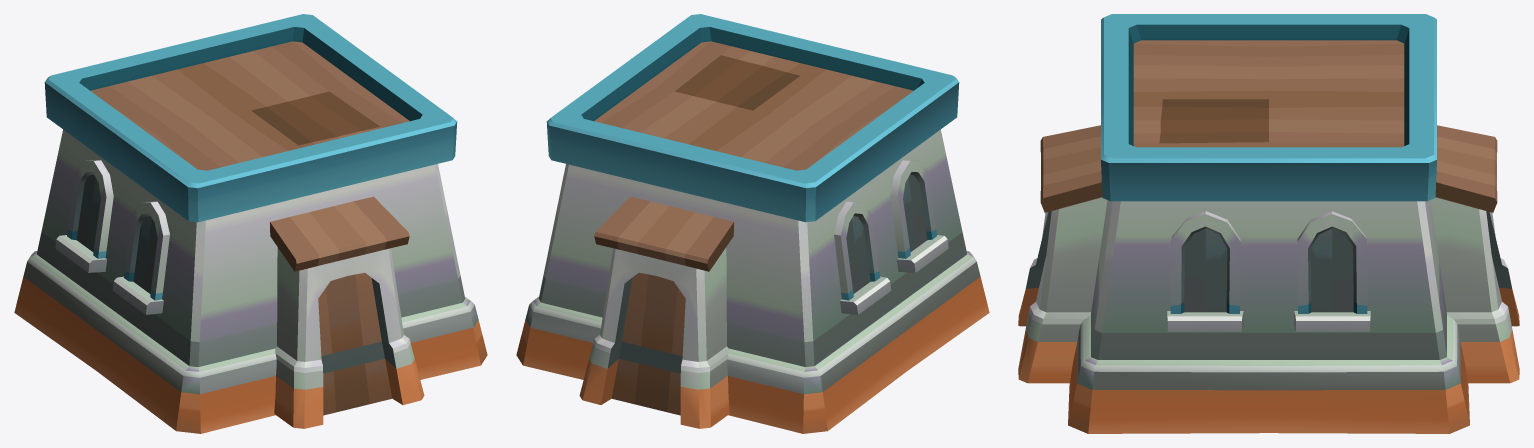
File: sand-house.obj
3 renders of one model, left to right at view 1: azimuth 30°, elevation 25°; view 2: azimuth 150°, elevation 25°; view 3: azimuth 270°, elevation 25°, orthographic. The views are drawn at different scales.
Parts seen in each view (by area): view 1: sand-house; view 2: sand-house; view 3: sand-house.
Part boxes in pixels (x1=…): sand-house: x1=14, y1=14, x2=487, y2=433; sand-house: x1=516, y1=14, x2=989, y2=433; sand-house: x1=1018, y1=14, x2=1519, y2=433.
Bounding box in the file's own units: 24.85 × 17.96 × 31.
Materials: 1 (1 with a texture image).
